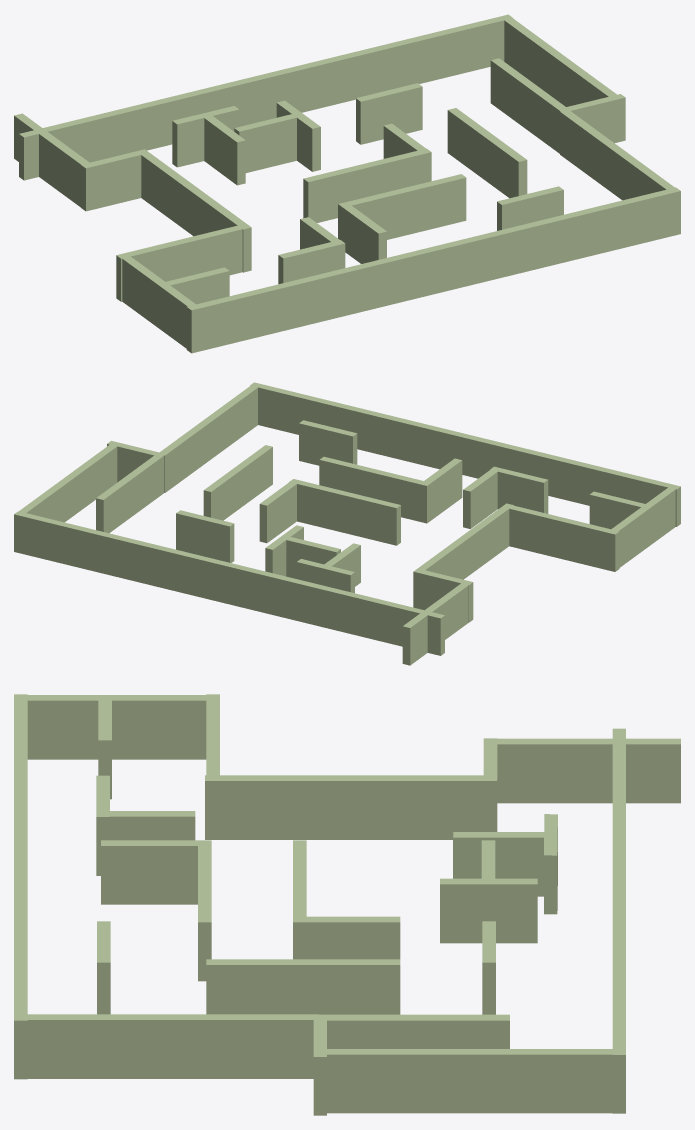
Rendered from level2W.obj.
3 renders of one model, top to bottom at view 1: azimuth 30°, elevation 25°; view 2: azimuth 150°, elevation 25°; view 3: azimuth 270°, elevation 25°, orthographic. The views are drawn at different scales.
Visible parts, largest first — view 1: Cube.062_Cube.085, Cube.085_Cube.103, Cube.028_Cube.040, Cube.011_Cube.023, Cube.066_Cube.086, Cube.074_Cube.092, Cube.086_Cube.104, Cube.117_Cube.150, Cube.079_Cube.097, Cube.073_Cube.091, Cube.080_Cube.098, Cube.118_Cube.151 (+40 smaller); view 2: Cube.055_Cube.070, Cube.004_Cube.014, Cube.028_Cube.040, Cube.115_Cube.148, Cube.117_Cube.150, Cube.118_Cube.151, Cube.113_Cube.146, Cube.119_Cube.152, Cube.114_Cube.147, Cube.080_Cube.098, Cube.116_Cube.149, Cube.056_Cube.071 (+40 smaller); view 3: Cube.091_Cube.109, Cube.034_Cube.046, Cube.035_Cube.047, Cube.092_Cube.110, Cube.104_Cube.125, Cube.001_Cube.016, Cube.109_Cube.139, Cube.063_Cube.078, Cube.101_Cube.124, Cube.139_Cube.172, Cube.093_Cube.111, Cube.041_Cube.053 (+22 smaller).
Boxes of the visible parts, x1,y1,x2,y2 form: Cube.062_Cube.085: (186,291,253,353); Cube.085_Cube.103: (554,202,619,263); Cube.028_Cube.040: (356,83,422,144); Cube.011_Cube.023: (400,174,466,235); Cube.066_Cube.086: (249,277,314,337); Cube.074_Cube.092: (370,247,436,308); Cube.086_Cube.104: (614,187,680,248); Cube.117_Cube.150: (325,44,391,105); Cube.079_Cube.097: (431,232,497,293); Cube.073_Cube.091: (309,262,375,323); Cube.080_Cube.098: (493,217,558,278); Cube.118_Cube.151: (386,29,451,89); Cube.055_Cube.070: (561,518,619,571); Cube.004_Cube.014: (343,492,400,545); Cube.028_Cube.040: (176,510,234,562); Cube.115_Cube.148: (226,563,284,616); Cube.117_Cube.150: (120,537,177,590); Cube.118_Cube.151: (67,524,124,577); Cube.113_Cube.146: (333,589,391,642); Cube.119_Cube.152: (14,511,71,564); Cube.114_Cube.147: (280,576,336,629); Cube.080_Cube.098: (356,408,413,461); Cube.116_Cube.149: (174,550,230,603); Cube.056_Cube.071: (509,505,564,558); Cube.091_Cube.109: (124,1014,222,1078); Cube.034_Cube.046: (302,775,400,839); Cube.035_Cube.047: (205,775,302,839); Cube.092_Cube.110: (27,1014,124,1078); Cube.104_Cube.125: (421,1049,518,1113); Cube.001_Cube.016: (101,840,198,904); Cube.109_Cube.139: (516,1049,614,1113); Cube.063_Cube.078: (112,695,209,759); Cube.101_Cube.124: (324,1049,421,1113); Cube.139_Cube.172: (440,878,537,943); Cube.093_Cube.111: (221,1014,318,1078); Cube.041_Cube.053: (399,775,496,839).
Bounding box in the file's own units: 16.77 × 1.27 × 13.04.
